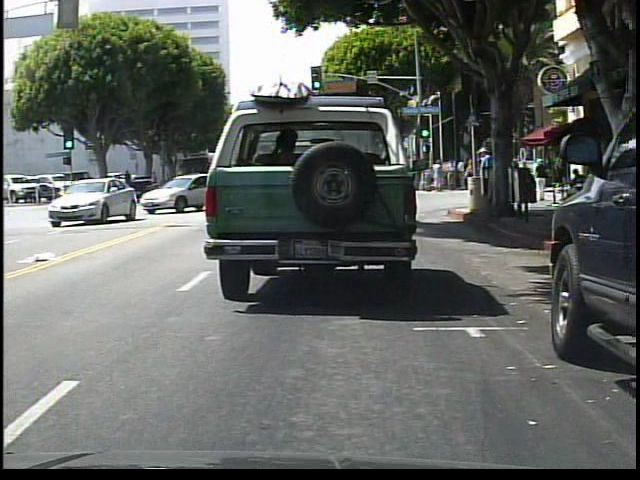person: (505, 152, 523, 219), (564, 166, 590, 207), (478, 146, 494, 206), (535, 157, 550, 200), (525, 165, 540, 205), (433, 159, 444, 192), (448, 158, 458, 191), (423, 163, 433, 192), (462, 158, 471, 190)
